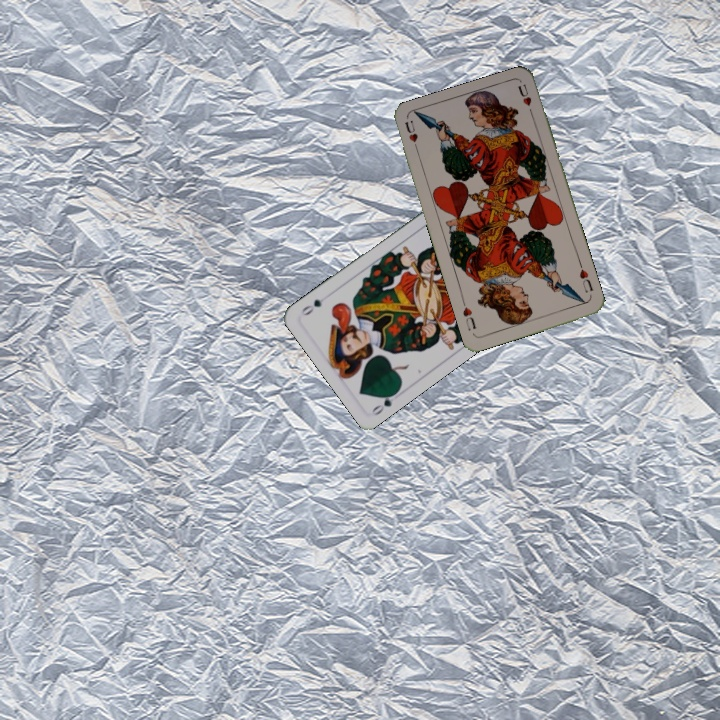GO: (368, 386, 402, 419)
HU: (401, 116, 421, 156), (575, 260, 596, 295)
